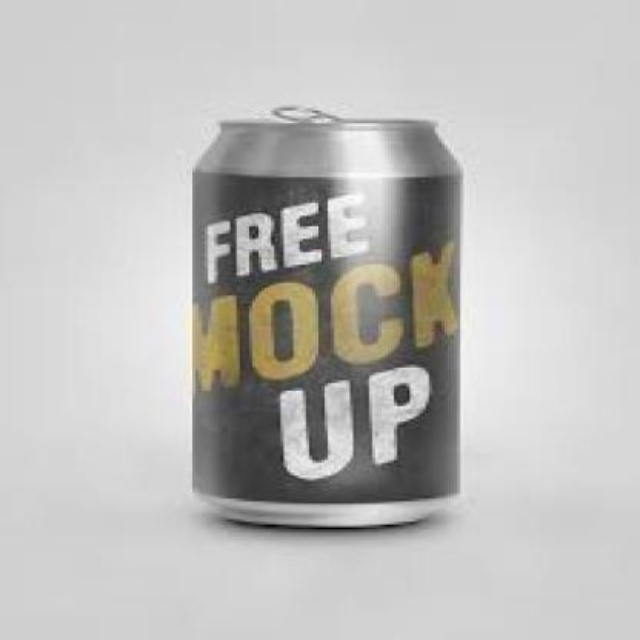trash: (192, 111, 460, 526)
